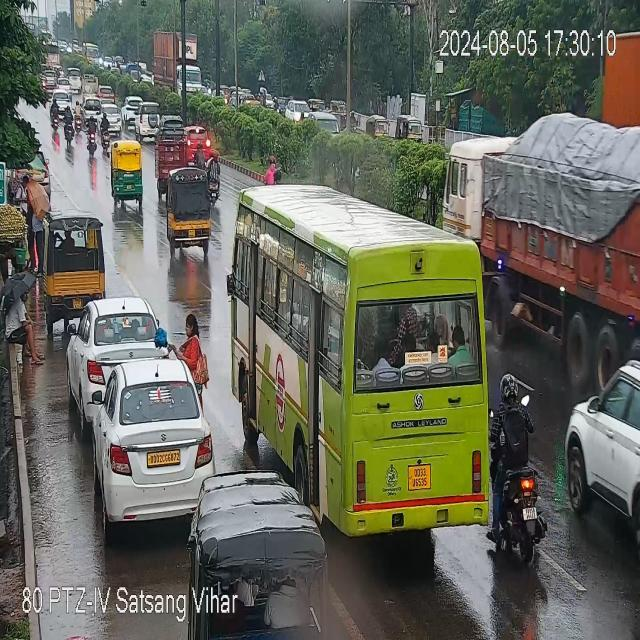2-wheelers: (486, 359, 542, 583), (48, 90, 112, 160), (190, 145, 222, 199), (264, 157, 279, 186)
auto: (168, 168, 213, 252), (112, 141, 145, 203), (389, 113, 433, 142), (365, 108, 388, 139)
bus: (224, 180, 491, 537)
car: (78, 353, 216, 526), (565, 355, 640, 585), (67, 296, 170, 424), (156, 138, 185, 194), (159, 117, 185, 142)
pedestrian: (0, 250, 41, 371), (12, 164, 39, 268), (175, 313, 211, 384)
truck: (447, 129, 640, 375), (42, 212, 106, 334)
